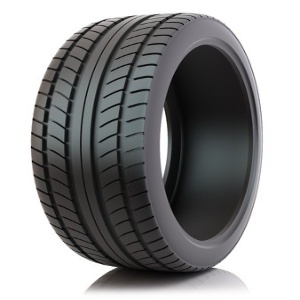tire: (30, 14, 264, 276)
